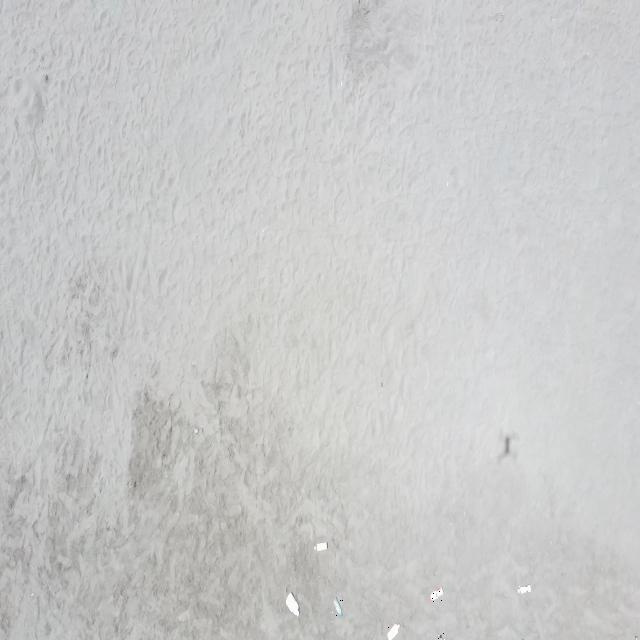Garbage: (287, 593, 298, 615), (332, 597, 342, 615), (387, 624, 399, 639), (431, 587, 442, 600), (313, 542, 327, 551), (516, 584, 529, 592), (436, 632, 444, 639)
